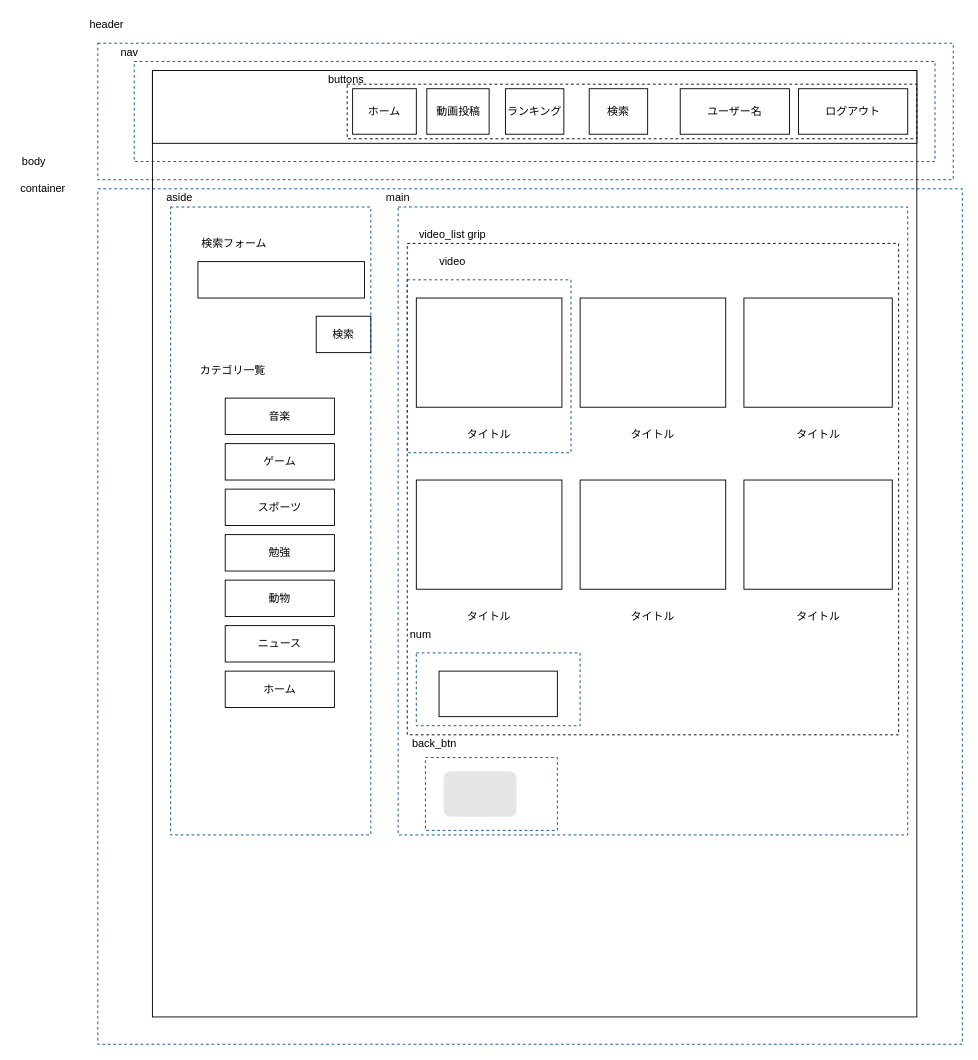
The diagram is 978 pixels wide and 1060 high, and some of its shapes have lost their labels. The box of each missing label's shape, as (x1, y1, x2, y2) in pixels:
1 2 3 次へ: (438, 670, 557, 717)
video_list: (152, 70, 917, 143)
戻る: (443, 771, 516, 816)
